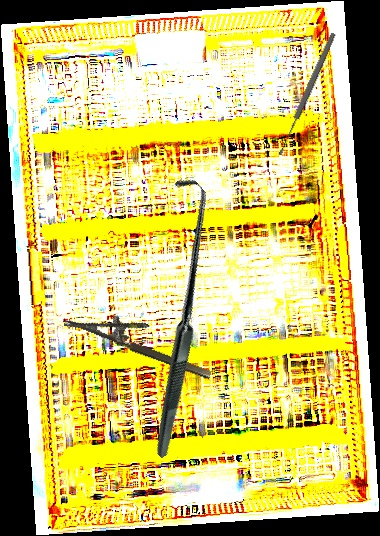Hook Surgical: (31, 172, 319, 459)
Needle Holder: (63, 296, 220, 381)
Surgical Spoon: (275, 31, 338, 157)
